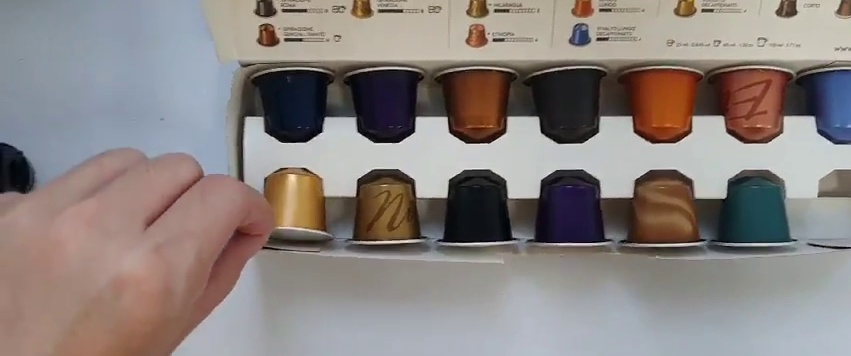capsule_8: (248, 165, 333, 246)
